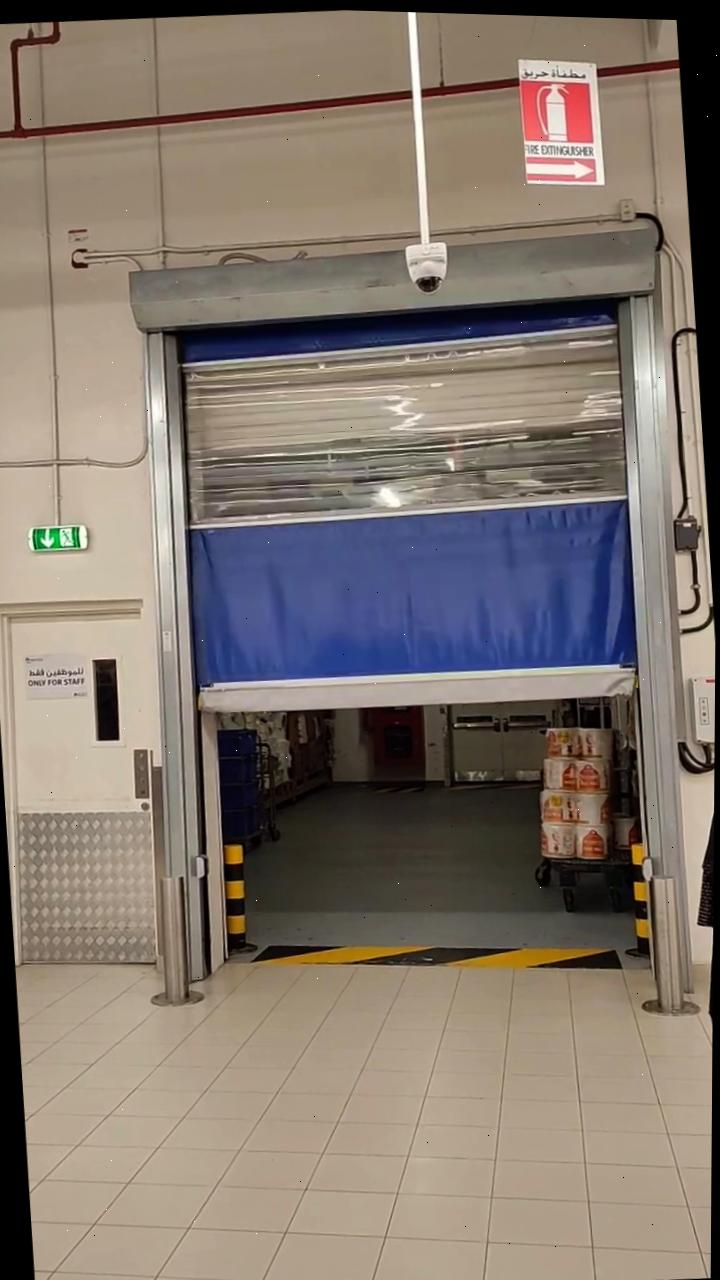Strip: (262, 904, 616, 992)
